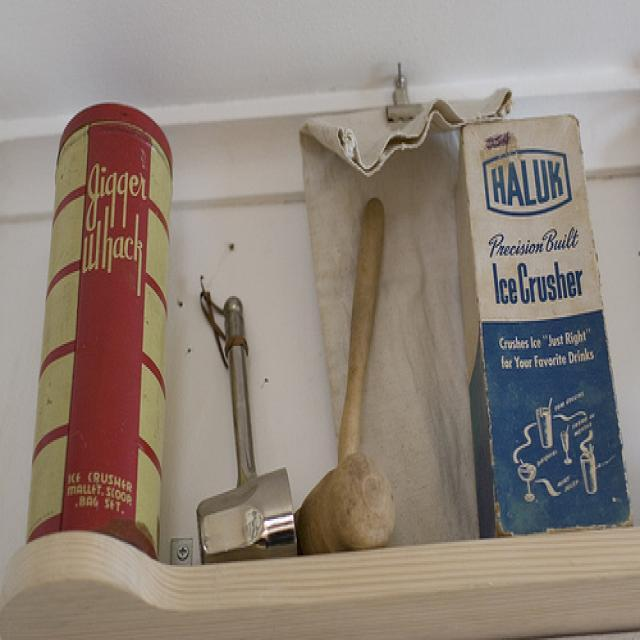hammer: (185, 269, 311, 575)
